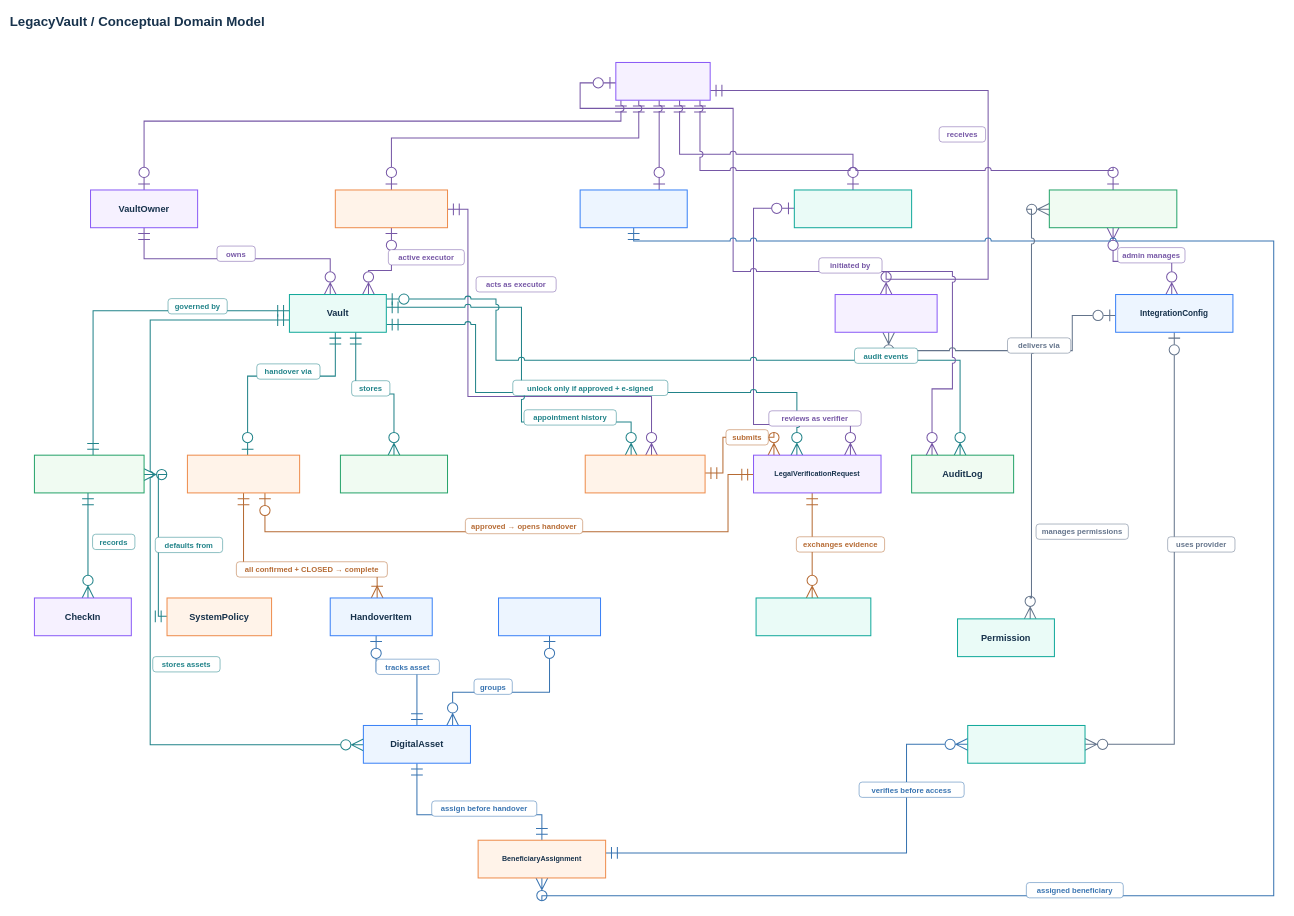
Some shapes in this 1294 by 916 pixel diagram are drawn without their labels. Each missing label, with the centre of its shape:
"AssetGroup" belongs at point 549,616.
"Beneficiary" belongs at point 633,208.
"DeadManSwitch" belongs at point 89,473.
"DigitalExecutor" belongs at point 391,208.
"ExecutorAppointment" belongs at point 644,473.
"HandoverCase" belongs at point 243,473.
"IdentityVerification" belongs at point 1026,744.
"LegalDocument" belongs at point 394,473.
"LegalVerifier" belongs at point 853,208.
"Notification" belongs at point 885,313.
"SystemAdministrator" belongs at point 1113,208.
"User" belongs at point 662,81.
"VerificationMessage" belongs at point 813,616.
